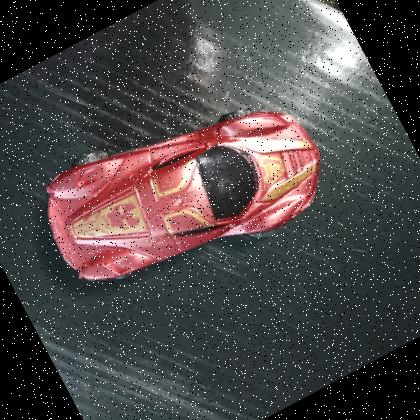Car: (17, 48, 351, 336)
